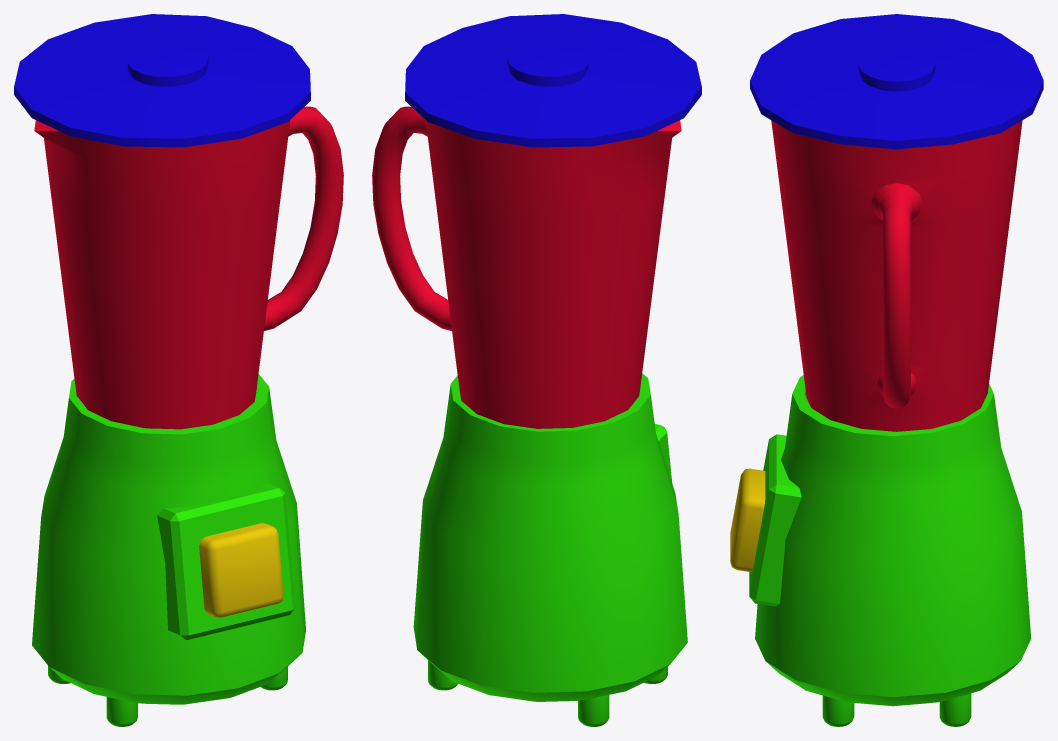
File: Blender.fbx
3 renders of one model, left to right at view 1: azimuth 30°, elevation 25°; view 2: azimuth 150°, elevation 25°; view 3: azimuth 270°, elevation 25°, orthographic.
Parts seen in each view (by area): view 1: Cylinder, Cube, Deksel, Cube.002; view 2: Cube, Cylinder, Deksel; view 3: Cube, Cylinder, Deksel, Cube.002.
Part boxes in pixels (<box>): Cylinder: <box>34,106,343,429</box>; Cube: <box>32,374,305,726</box>; Deksel: <box>14,14,310,147</box>; Cube.002: <box>199,523,283,617</box>; Cube: <box>413,373,687,726</box>; Cylinder: <box>372,106,681,428</box>; Deksel: <box>405,14,701,147</box>; Cube: <box>749,375,1031,726</box>; Cylinder: <box>771,120,1022,431</box>; Deksel: <box>750,14,1043,149</box>; Cube.002: <box>730,468,765,572</box>.
Size of the model in its own units: 0.6634 by 1.27 by 0.5816.
